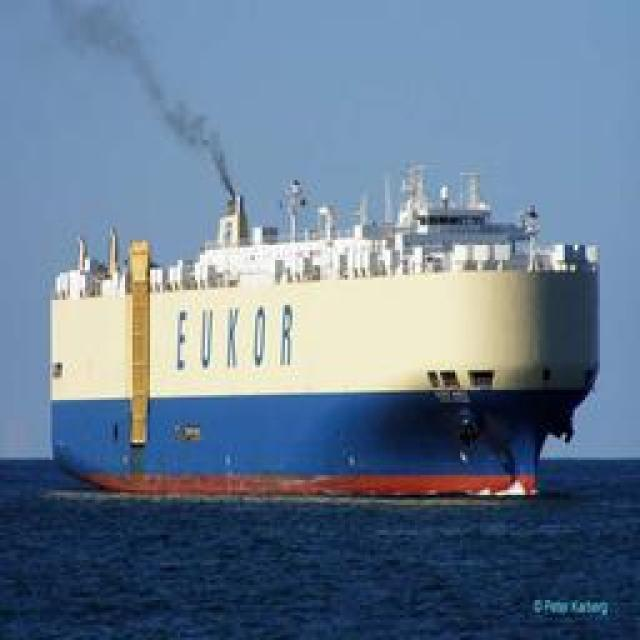CIV_Ship: (48, 144, 600, 488)
